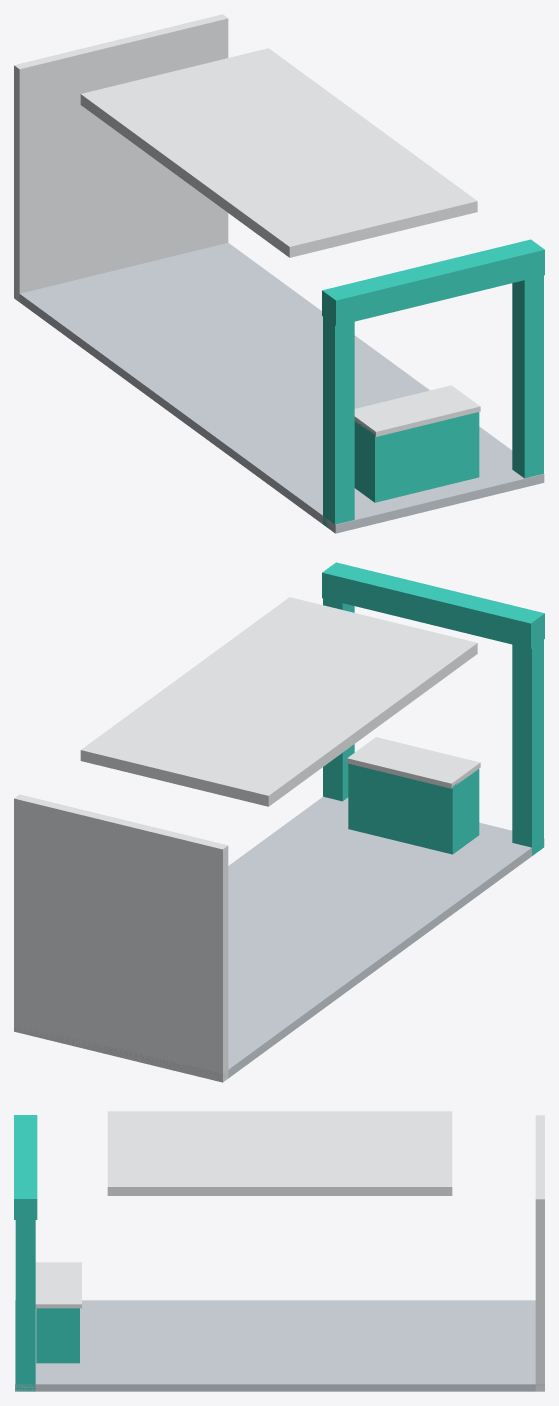
3 views of the same model, one above another, from view 1: azimuth 30°, elevation 25°; view 2: azimuth 150°, elevation 25°; view 3: azimuth 270°, elevation 25° (orthographic). The views are drawn at different scales.
Parts seen in each view (by area): view 1: Exhibition Booth Concept; view 2: Exhibition Booth Concept; view 3: Exhibition Booth Concept.
Boxes of the visible parts, box(x1,y1,x2,y2) form: Exhibition Booth Concept: box(14, 14, 544, 533); Exhibition Booth Concept: box(14, 562, 544, 1082); Exhibition Booth Concept: box(14, 1111, 544, 1391).
Size of the model in its own units: 3 by 3.34 by 8.01.
